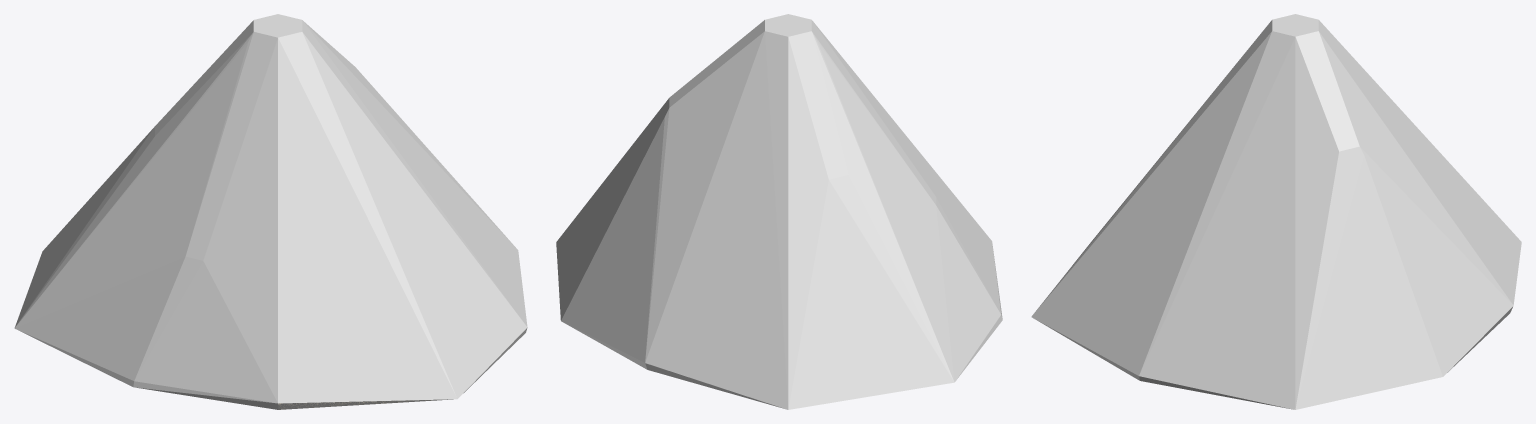
Rendered from candles.low.webp.glb.
3 renders of one model, left to right at view 1: azimuth 30°, elevation 25°; view 2: azimuth 150°, elevation 25°; view 3: azimuth 270°, elevation 25°, orthographic. The views are drawn at different scales.
Parts seen in each view (by area): view 1: COL; view 2: COL; view 3: COL.
Part boxes in pixels (bbox=[...]): COL: bbox=[14, 14, 527, 409]; COL: bbox=[556, 14, 1002, 409]; COL: bbox=[1031, 14, 1521, 409].
Size of the model in its own units: 0.6979 by 0.42 by 0.6737.
Materials: 1 (1 with a texture image).
